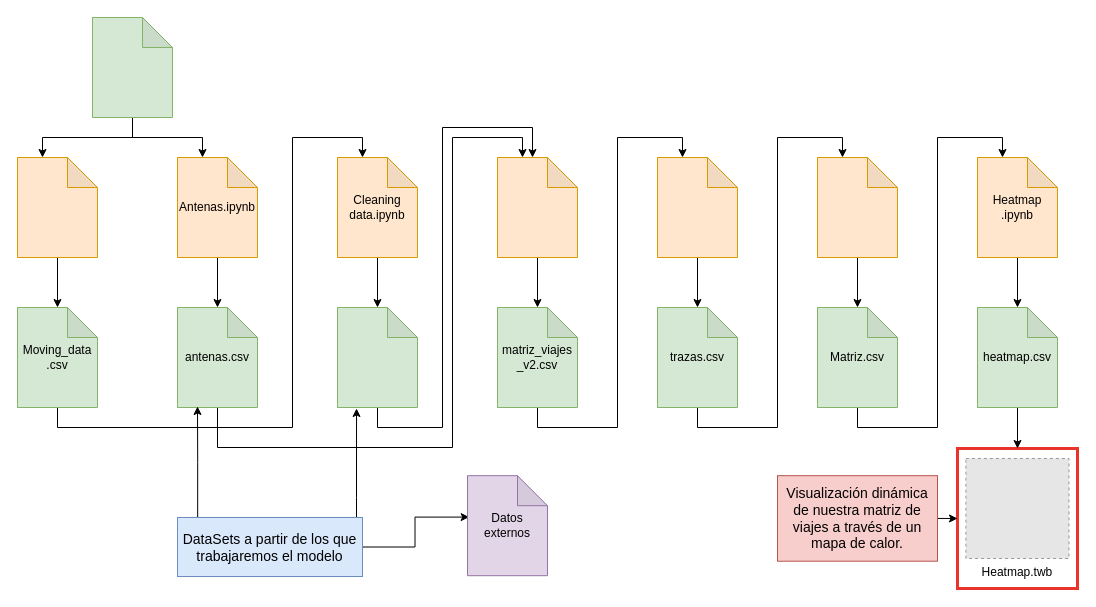
Image size: 1096x607. Some labels were removed from this diagram. Grey dashed boxes stand in for pictures. The shapes that lost their labels are listed below. From the top down, each one's centre as x and y in pixels, then its label:
the point at 132,67: 20210101_ RM.csv
the point at 57,207: Not Moving.ipynb
the point at 537,207: Merge data.ipynb
the point at 697,207: viajes2.ipynb
the point at 857,207: Origen Destino.ipynb
the point at 377,357: loreto_idea_ clean .csv
